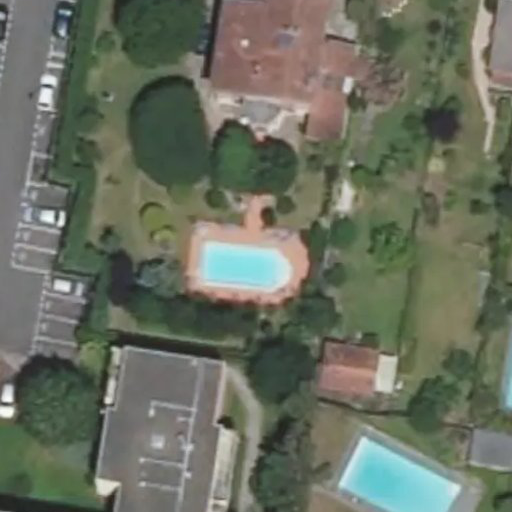pool: (341, 438, 458, 512), (203, 243, 279, 288)
